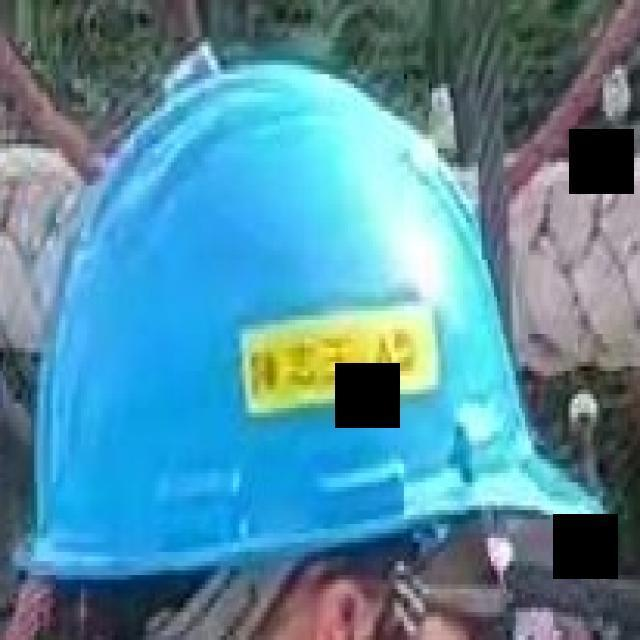blue helmet: (21, 61, 599, 588)
